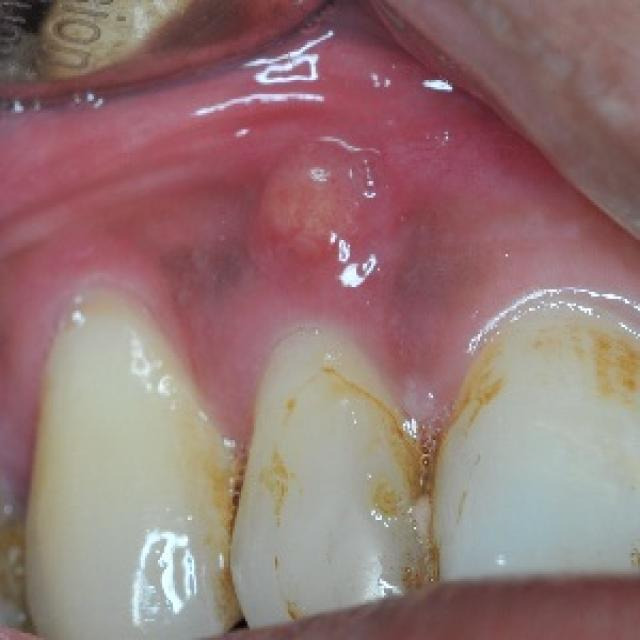abscess: (229, 100, 430, 322)
